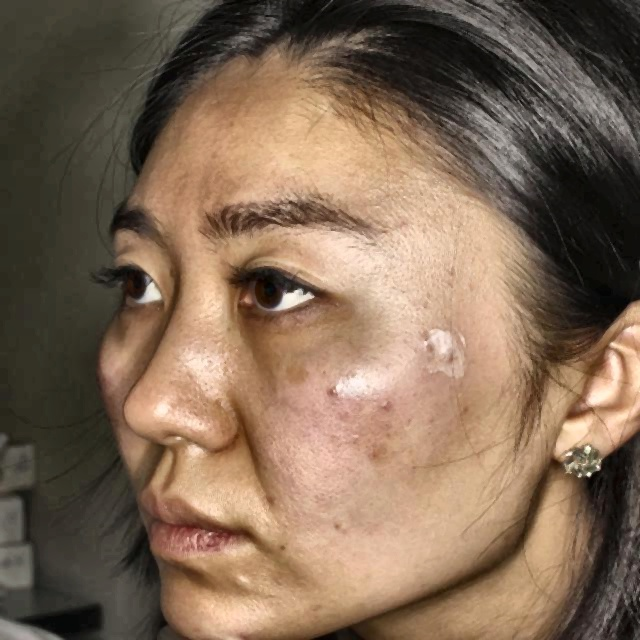comedone: (224, 569, 250, 597), (378, 390, 397, 418), (321, 377, 340, 405)
